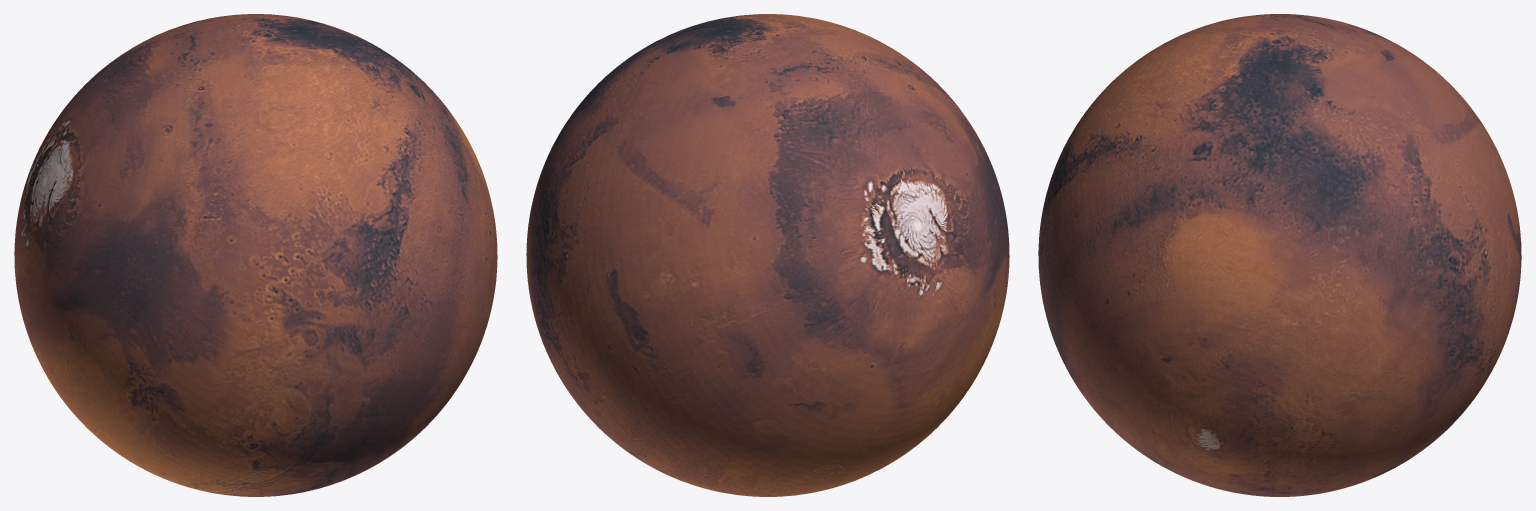
File: planet1.glb
3 renders of one model, left to right at view 1: azimuth 30°, elevation 25°; view 2: azimuth 150°, elevation 25°; view 3: azimuth 270°, elevation 25°, orthographic.
Visible parts, largest first — view 1: Sphere; view 2: Sphere; view 3: Sphere.
Part boxes in pixels (left/top/right/bottom): Sphere: left=14, top=14, right=497, bottom=496; Sphere: left=526, top=14, right=1009, bottom=496; Sphere: left=1038, top=14, right=1521, bottom=496.
Bounding box in the file's own units: 2 × 2 × 2.
1 material, 1 textured.
